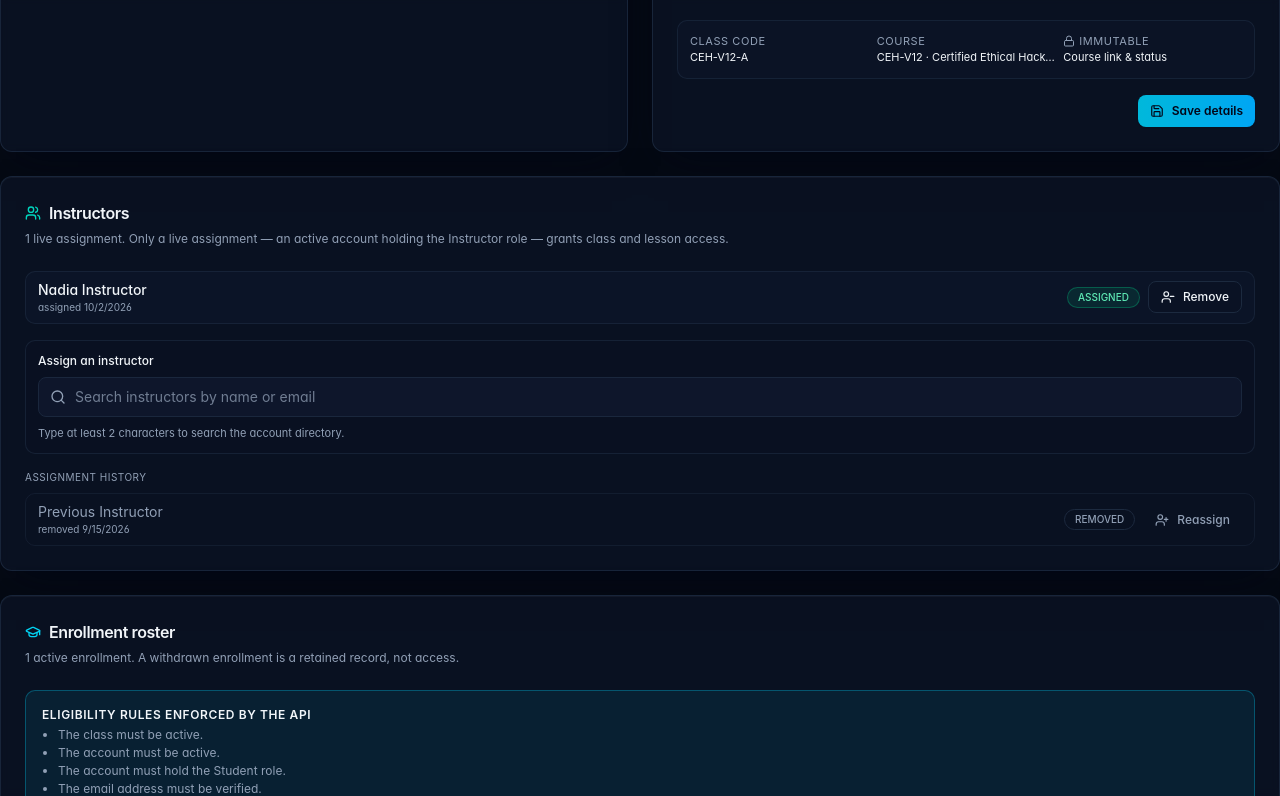
Test: Instructor assignment › assigns an instructor selected by name, never by pasted id
(page scrolled)
Expected: the text "Nadia Instructor" is shown, [38,280,147,300]
Type "second" into the search field named "Search instructor accounts".
click(640, 397); type("second")  # box [38,377,1242,417]
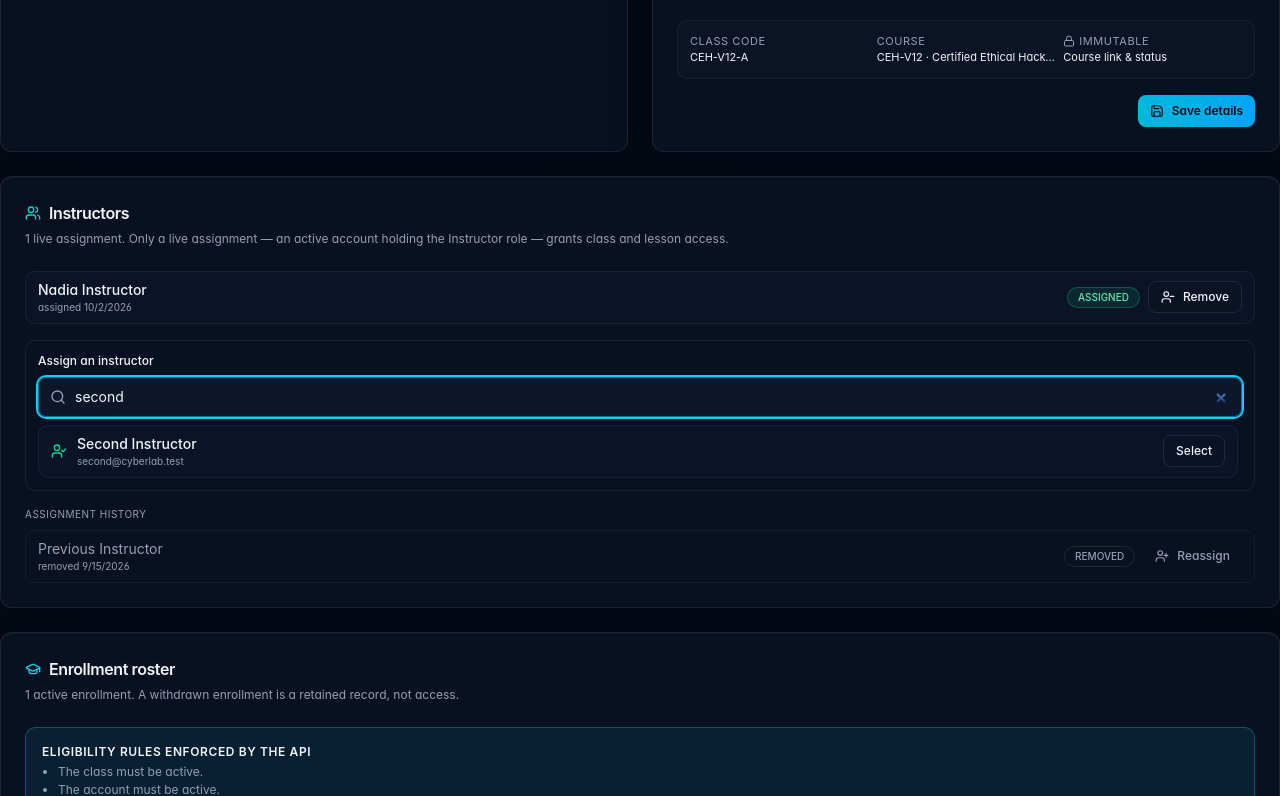
Click the button with aria-label "Select Second Instructor".
click(1194, 451)  # box [1163,435,1225,467]
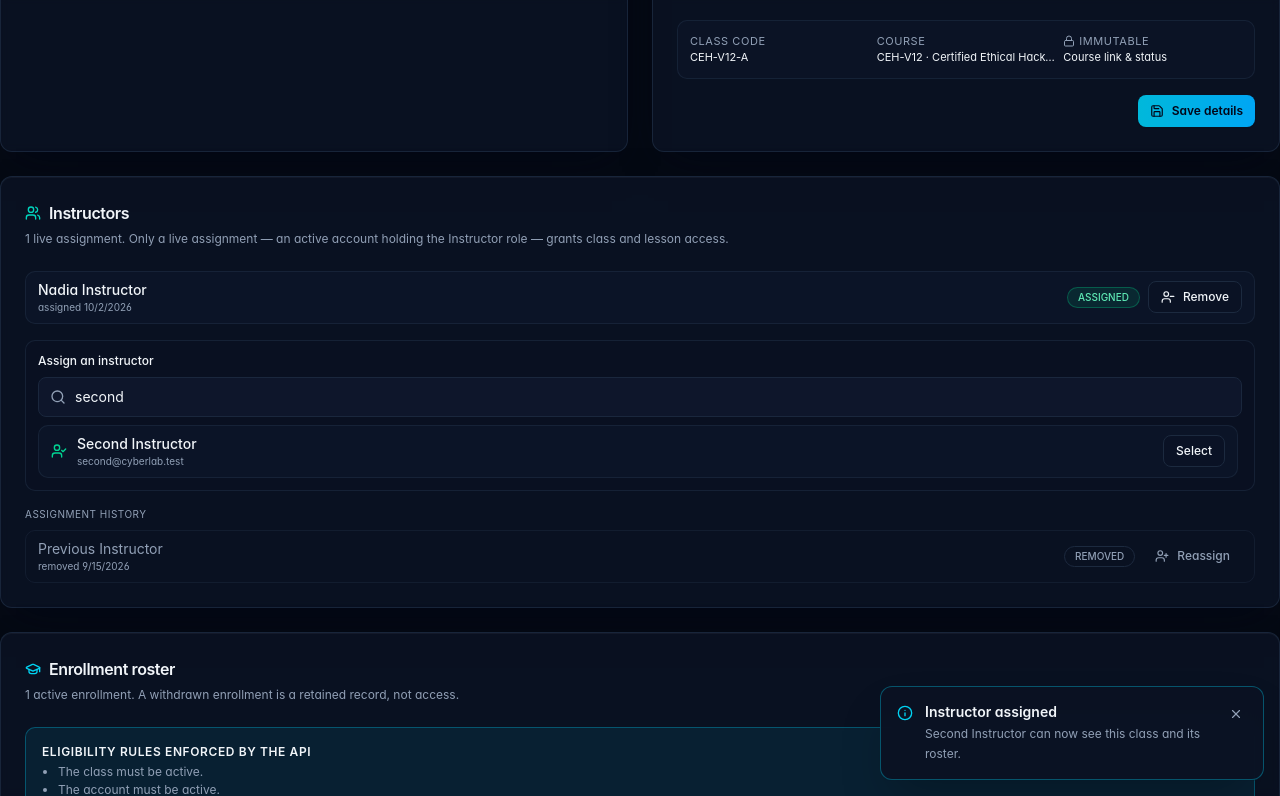
Expected: the text "Instructor assigned" is shown, [925,702,1057,720]
